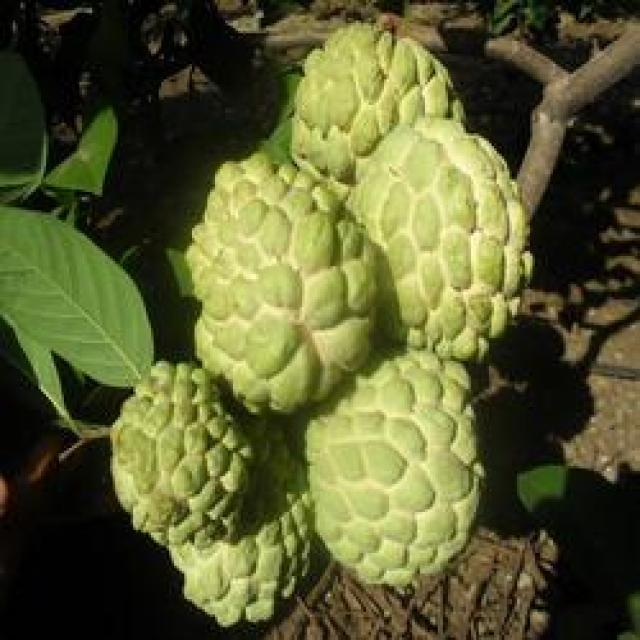apple: (192, 169, 381, 410), (297, 379, 499, 594), (361, 128, 535, 364), (87, 361, 264, 543)
